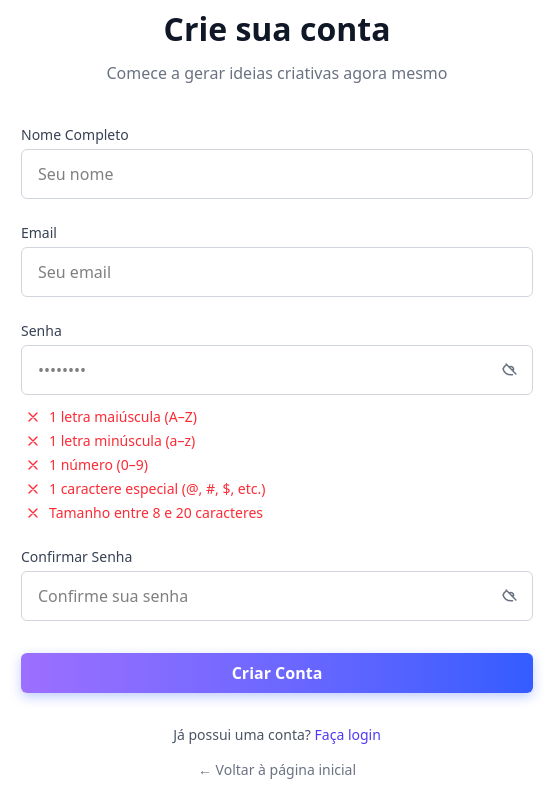
RegisterForm › exibe mensagem amigável quando backend retorna conflito
The image size is (555, 793).
Type "Usuário Teste" into the field with placeholder "Seu nome" at (277, 174), box [21, 149, 533, 199]
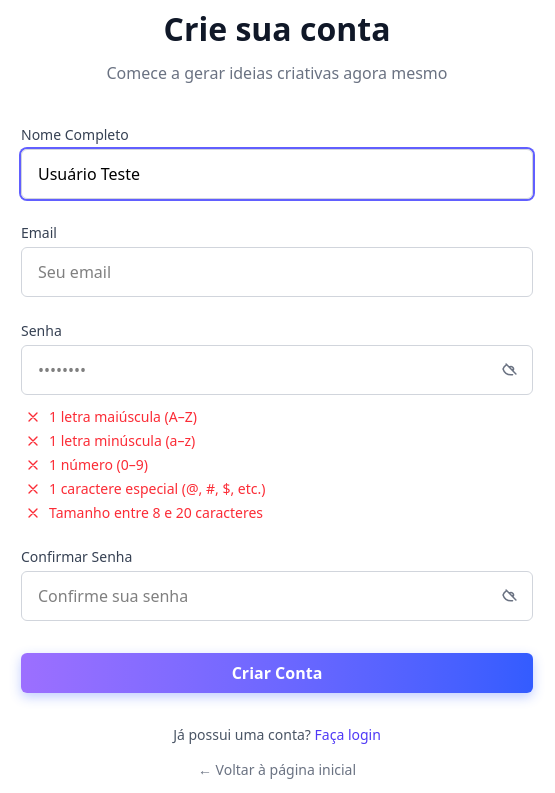
Type "user@example.com" into the field with placeholder "Seu email" at (277, 272), box [21, 247, 533, 297]
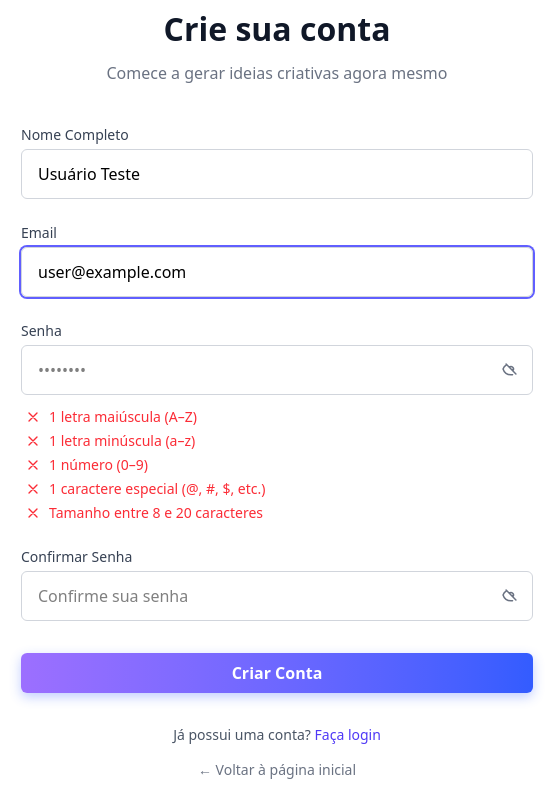
Type "Senha@123" into the password field labelled "Senha" at (277, 370), box [21, 345, 533, 395]
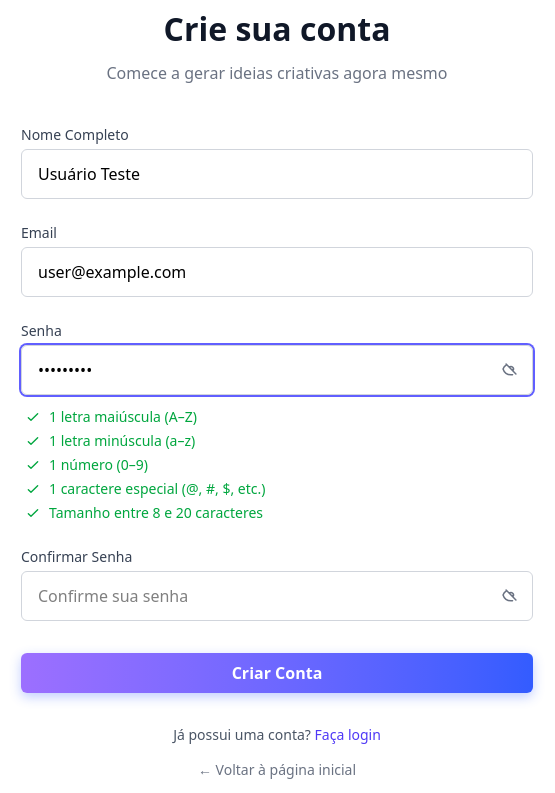
Type "Senha@123" into the password field labelled "Confirmar Senha" at (277, 596), box [21, 571, 533, 621]
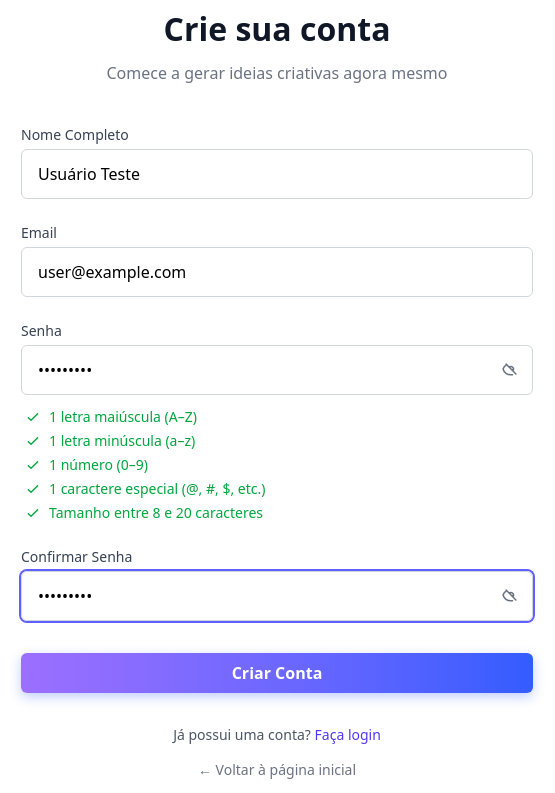
Click the button "Criar Conta" at (277, 673), box [21, 653, 533, 693]
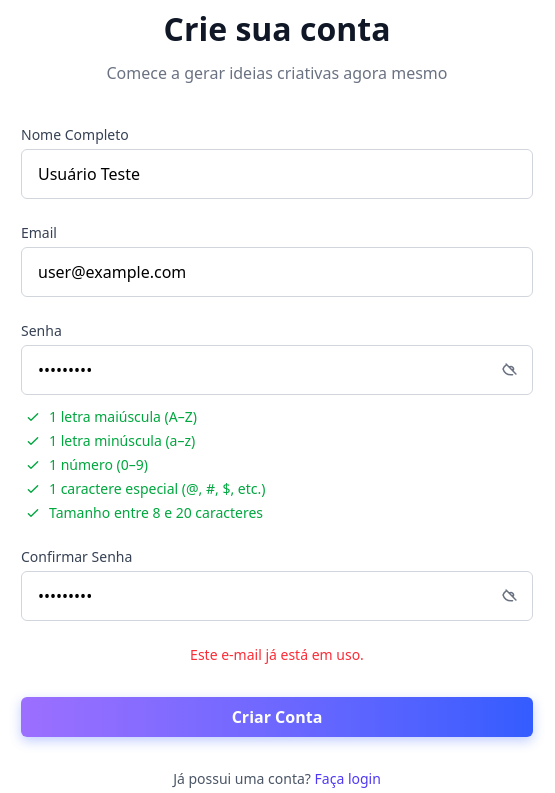
Result: the text "Este e-mail já está em uso." is shown at [190, 645, 364, 664]
